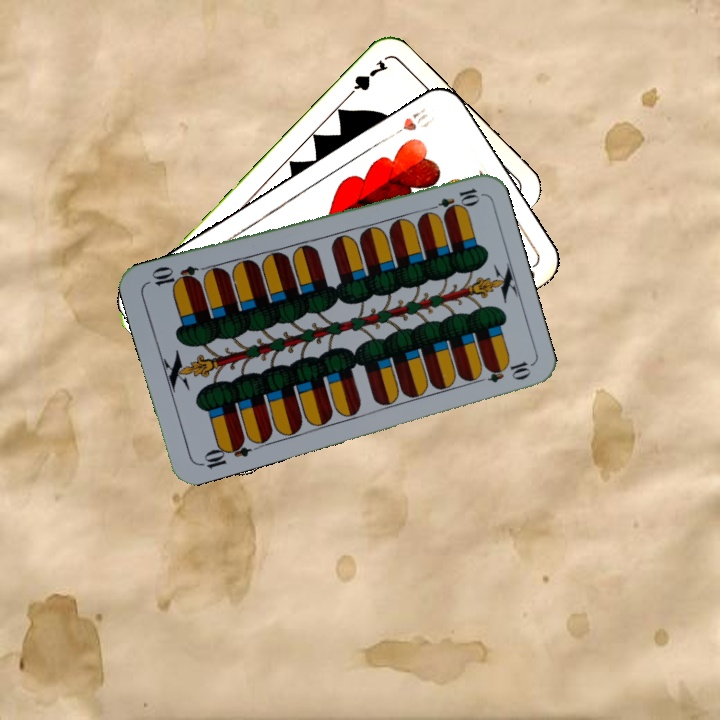E10: (195, 434, 253, 471), (423, 184, 482, 216)
G7: (341, 56, 391, 103)
H10: (384, 103, 438, 142)
